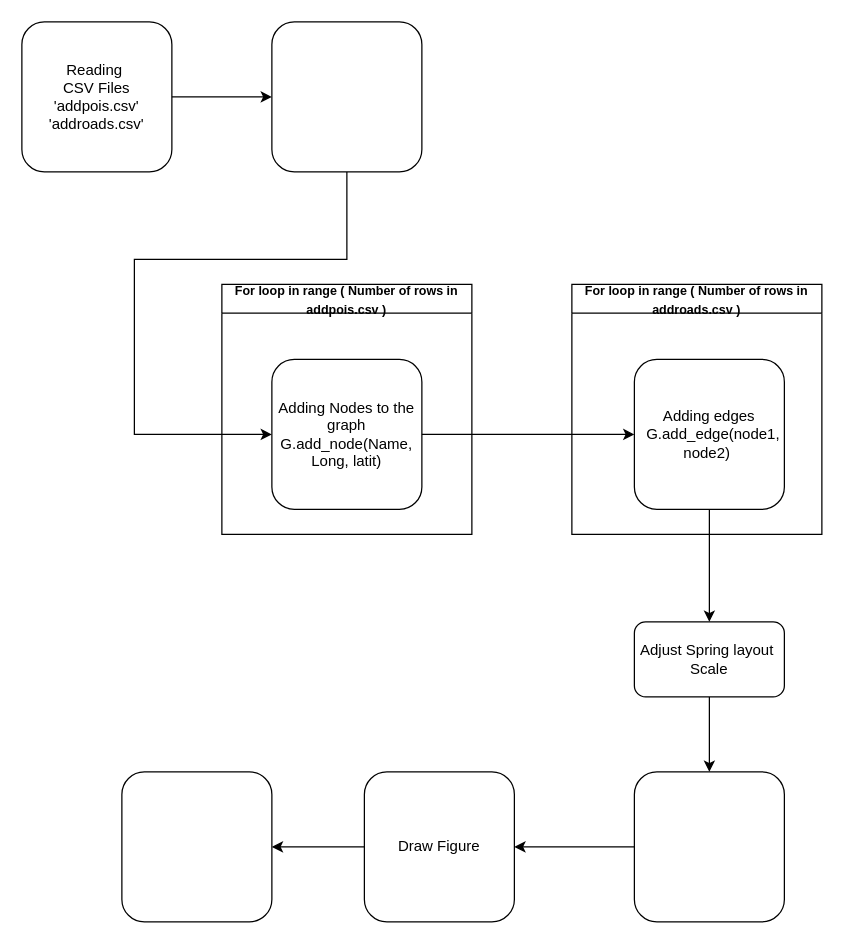
The diagram is 844 pixels wide and 944 high, and some of its shapes have lost their labels. Here are the shapes that lost their labels. From the top down, the box of each, then its label:
(271, 21, 422, 172): Define Graph G = Graph()
(121, 771, 272, 922): Figure.Show()
(633, 771, 784, 922): Define Figure
